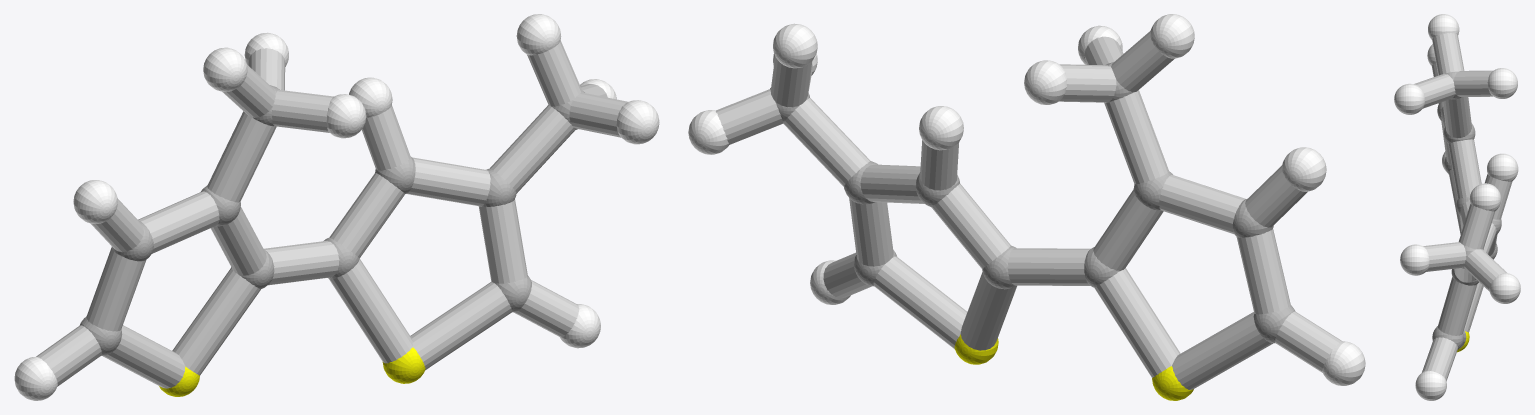
File: Methylthiophene_Phi_20_Theta_160_Methylthiophene.glb
3 views of the same model, side by side, from view 1: azimuth 30°, elevation 25°; view 2: azimuth 150°, elevation 25°; view 3: azimuth 270°, elevation 25° (orthographic). The views are drawn at different scales.
Visible parts, largest first — view 1: grp7965, grp3621, grp1, grp7241; view 2: grp7965, grp3621, grp1, grp7241; view 3: grp7965, grp3621, grp1.
Part boxes in pixels (left/top/right/bottom): grp7965: left=36, top=41, right=628, bottom=388; grp3621: left=14, top=14, right=659, bottom=400; grp1: left=80, top=85, right=584, bottom=355; grp7241: left=159, top=347, right=425, bottom=396; grp7965: left=716, top=31, right=1342, bottom=389; grp3621: left=688, top=14, right=1365, bottom=385; grp1: left=770, top=62, right=1295, bottom=343; grp7241: left=954, top=334, right=1193, bottom=400; grp7965: left=1414, top=33, right=1512, bottom=381; grp3621: left=1394, top=14, right=1520, bottom=400; grp1: left=1432, top=71, right=1501, bottom=349.
Size of the model in its own units: 9.81 by 5.7 by 2.41.
